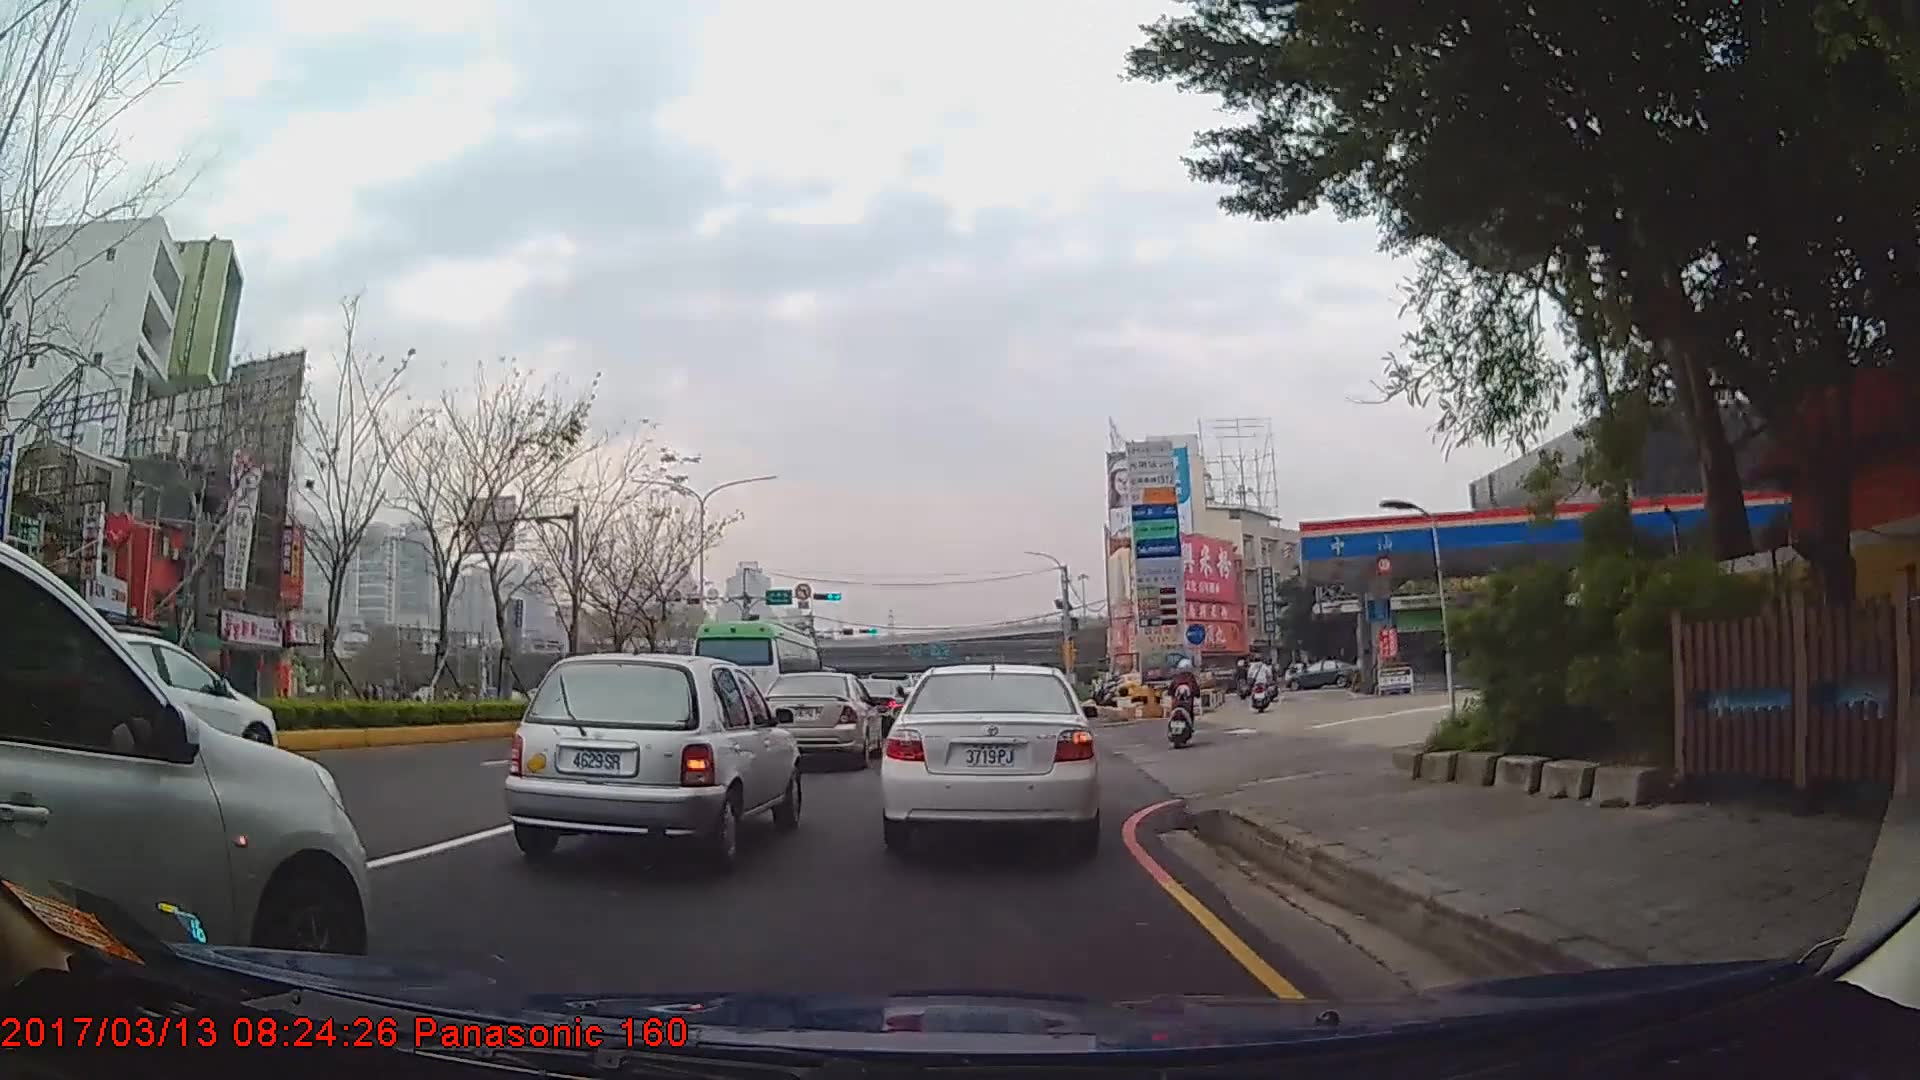rider: (1168, 661, 1202, 755), (1246, 653, 1275, 714)
vehicle: (0, 546, 377, 994), (504, 652, 804, 870), (878, 660, 1100, 857), (690, 618, 822, 724), (753, 672, 881, 768), (1287, 659, 1357, 689)
